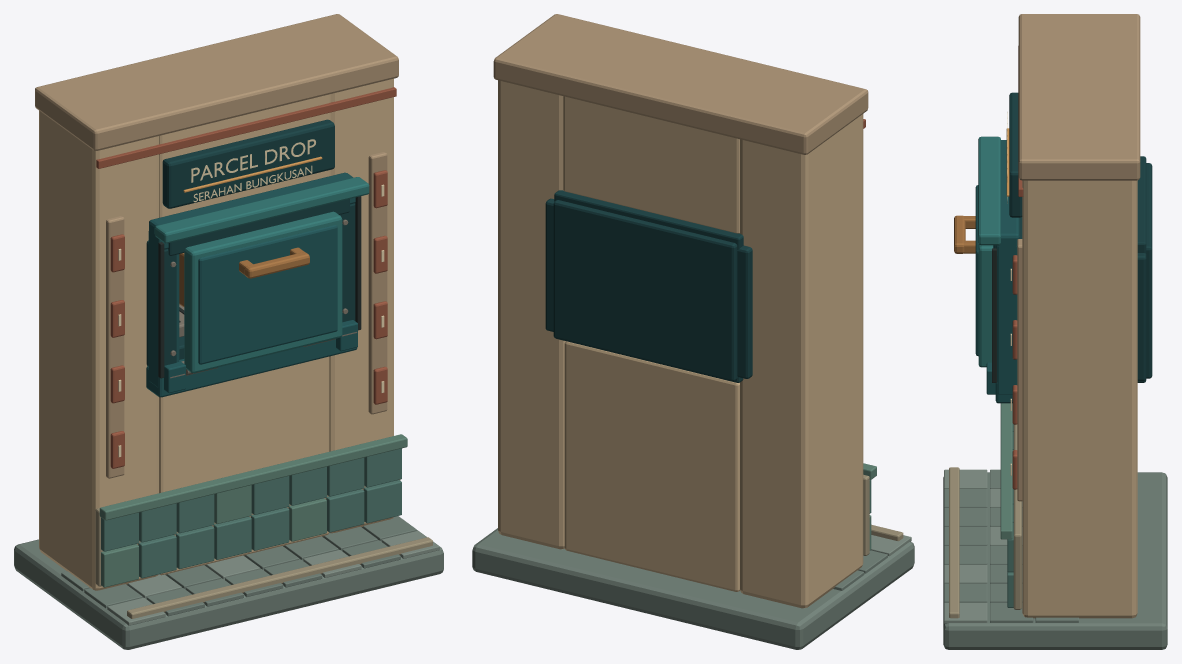
File: shophouse-parcel-drop-hatch.glb
3 views of the same model, side by side, from view 1: azimuth 30°, elevation 25°; view 2: azimuth 150°, elevation 25°; view 3: azimuth 270°, elevation 25° (orthographic). The views are drawn at different scales.
Visible parts, largest first — view 1: Plaster bay and tile foot | Aged warm limewash, Plaster bay and tile foot | Plaster inset umber, Plaster bay and tile foot | Rain-worn grey cement floor, Plaster bay and tile foot | Sea-green ceramic skirting, PARCEL_DROP_FLAP | Deep petrol enamel, Plaster bay and tile foot | Faded jade skirting variation, Local bilingual signage | Rear painted aperture steel, Handset-free metal hatch surround | Deep petrol enamel, Plaster bay and tile foot | Powdery terracotta border, PARCEL_DROP_FLAP | Lighter sea-green enamel, Handset-free metal hatch surround | Rear painted aperture st, Handset-free metal hatch surround | Lighter sea-green enamel (+5 smaller); view 2: Plaster bay and tile foot | Aged warm limewash, Handset-free metal hatch surround | Rear painted aperture st, Plaster bay and tile foot | Plaster inset umber, Plaster bay and tile foot | Rain-worn grey cement floor, Plaster bay and tile foot | Cement joints; view 3: Plaster bay and tile foot | Aged warm limewash, Plaster bay and tile foot | Plaster inset umber, Plaster bay and tile foot | Rain-worn grey cement floor, Handset-free metal hatch surround | Deep petrol enamel, Handset-free metal hatch surround | Rear painted aperture st, Plaster bay and tile foot | Cement joints, Plaster bay and tile foot | Rain-worn swatch variation, Handset-free metal hatch surround | Lighter sea-green enamel, Plaster bay and tile foot | Faded jade skirting variation, PARCEL_DROP_FLAP | Lighter sea-green enamel, Local bilingual signage | Rear painted aperture steel, Plaster bay and tile foot | Powdery terracotta border (+4 smaller).
Boxes of the visible parts, left/top/right/bottom form: Plaster bay and tile foot | Aged warm limewash: left=39, top=78, right=393, bottom=590; Plaster bay and tile foot | Plaster inset umber: left=35, top=14, right=398, bottom=478; Plaster bay and tile foot | Rain-worn grey cement floor: left=14, top=516, right=443, bottom=649; Plaster bay and tile foot | Sea-green ceramic skirting: left=101, top=448, right=401, bottom=578; PARCEL_DROP_FLAP | Deep petrol enamel: left=198, top=225, right=337, bottom=364; Plaster bay and tile foot | Faded jade skirting variation: left=99, top=434, right=407, bottom=587; Local bilingual signage | Rear painted aperture steel: left=162, top=119, right=334, bottom=208; Handset-free metal hatch surround | Deep petrol enamel: left=146, top=172, right=357, bottom=397; Plaster bay and tile foot | Powdery terracotta border: left=96, top=87, right=396, bottom=468; PARCEL_DROP_FLAP | Lighter sea-green enamel: left=184, top=211, right=342, bottom=373; Handset-free metal hatch surround | Rear painted aperture st: left=146, top=199, right=355, bottom=366; Handset-free metal hatch surround | Lighter sea-green enamel: left=154, top=177, right=369, bottom=243; Plaster bay and tile foot | Aged warm limewash: left=498, top=80, right=863, bottom=608; Handset-free metal hatch surround | Rear painted aperture st: left=545, top=190, right=752, bottom=382; Plaster bay and tile foot | Plaster inset umber: left=493, top=14, right=868, bottom=154; Plaster bay and tile foot | Rain-worn grey cement floor: left=472, top=528, right=914, bottom=649; Plaster bay and tile foot | Cement joints: left=863, top=474, right=903, bottom=555; Plaster bay and tile foot | Aged warm limewash: left=1022, top=180, right=1137, bottom=618; Plaster bay and tile foot | Plaster inset umber: left=1017, top=14, right=1140, bottom=501; Plaster bay and tile foot | Rain-worn grey cement floor: left=943, top=469, right=1167, bottom=649; Handset-free metal hatch surround | Deep petrol enamel: left=986, top=140, right=1019, bottom=403; Handset-free metal hatch surround | Rear painted aperture st: left=993, top=156, right=1152, bottom=382; Plaster bay and tile foot | Cement joints: left=949, top=424, right=1021, bottom=618; Plaster bay and tile foot | Rain-worn swatch variation: left=944, top=469, right=1022, bottom=623; Handset-free metal hatch surround | Lighter sea-green enamel: left=978, top=136, right=1000, bottom=245; Plaster bay and tile foot | Faded jade skirting variation: left=1000, top=403, right=1013, bottom=539; PARCEL_DROP_FLAP | Lighter sea-green enamel: left=978, top=244, right=993, bottom=367; Local bilingual signage | Rear painted aperture steel: left=1009, top=92, right=1022, bottom=217; Plaster bay and tile foot | Powdery terracotta border: left=1012, top=46, right=1023, bottom=489.
Size of the model in its own units: 1.18 by 1.73 by 0.72.
